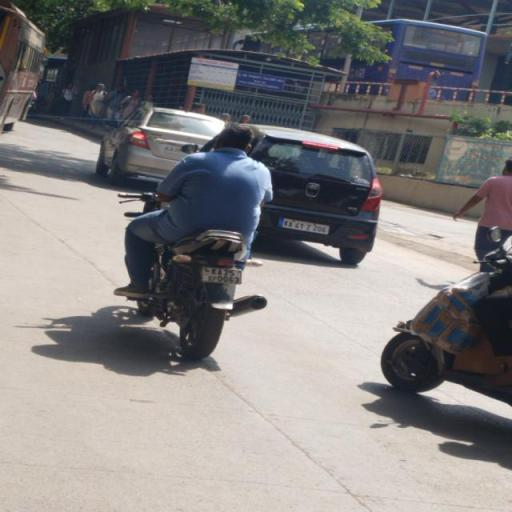bike: (112, 119, 294, 364)
numberplate: (202, 266, 243, 286)
withouthelmet: (223, 122, 256, 152)
